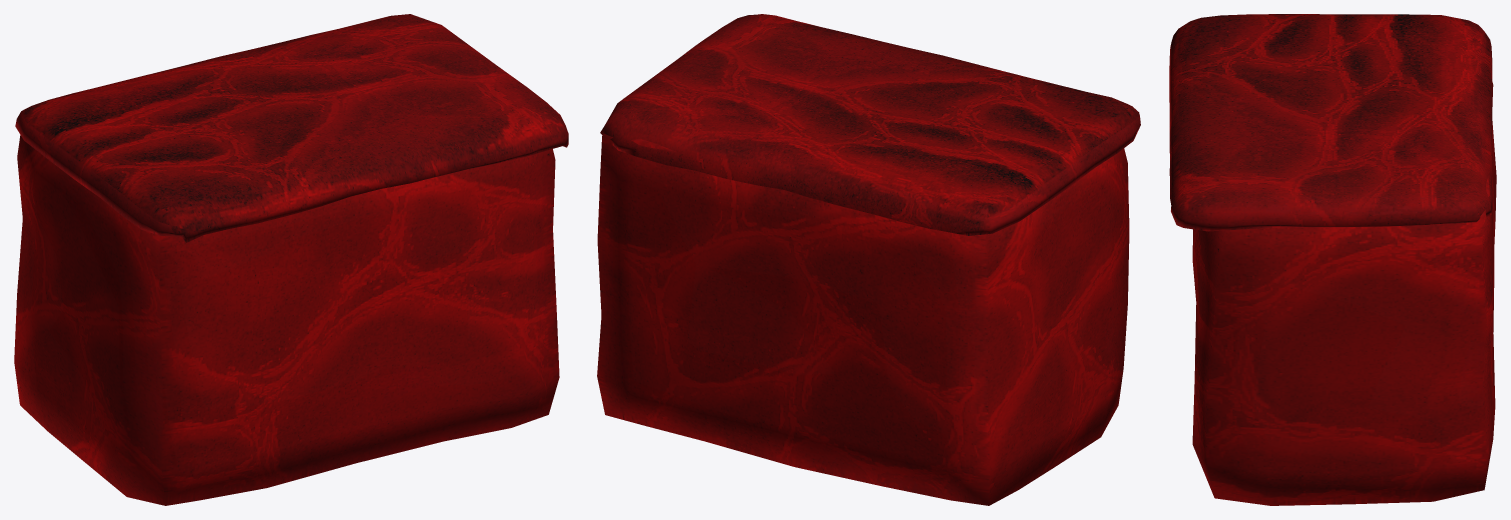
The model's file is tile3.fbx.
The picture shows the model from 3 angles, left to right: view 1: azimuth 30°, elevation 25°; view 2: azimuth 150°, elevation 25°; view 3: azimuth 270°, elevation 25°; orthographic projection. The views are drawn at different scales.
Parts seen in each view (by area): view 1: PLATAFORMBAIXO1, PLATAFORMCIMA1; view 2: PLATAFORMBAIXO1, PLATAFORMCIMA1; view 3: PLATAFORMBAIXO1, PLATAFORMCIMA1.
Boxes of the visible parts, x1,y1,x2,y2 form: PLATAFORMBAIXO1: (14, 135, 559, 505); PLATAFORMCIMA1: (15, 14, 568, 242); PLATAFORMBAIXO1: (597, 134, 1129, 505); PLATAFORMCIMA1: (600, 14, 1140, 235); PLATAFORMBAIXO1: (1192, 82, 1496, 505); PLATAFORMCIMA1: (1169, 14, 1492, 231).
Size of the model in its own units: 494 by 363 by 341.
